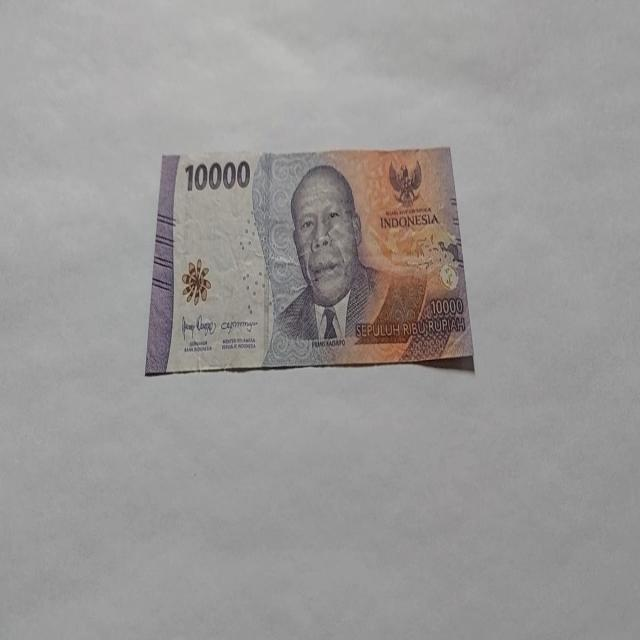sepuluh ribu rupiah: (144, 145, 476, 376), (260, 162, 432, 366)
